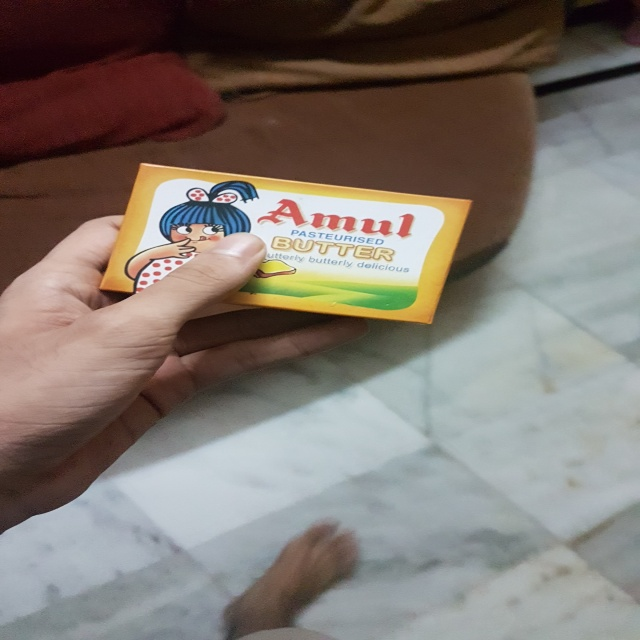butter: (98, 158, 474, 325)
